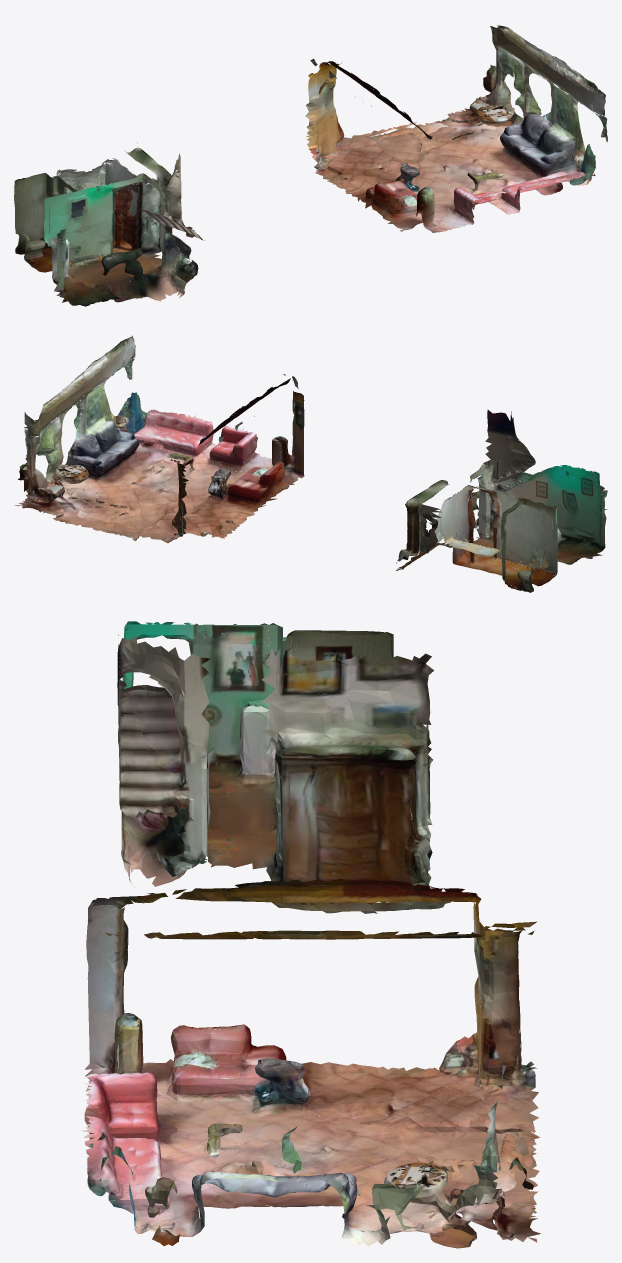
The model's file is esc_baja_muros_01.glb.
The picture shows the model from 3 angles, top to bottom: view 1: azimuth 30°, elevation 25°; view 2: azimuth 150°, elevation 25°; view 3: azimuth 270°, elevation 25°; orthographic projection. The views are drawn at different scales.
Parts seen in each view (by area): view 1: muros_Planta_principal_1_GLTF_11, muros_Planta_principal_1_GLTF_15, muros_Planta_principal_1_GLTF_14, muros_Planta_principal_1_GLTF_9, muros_Planta_principal_1_GLTF_4, muros_Planta_principal_1_GLTF_13, muros_Planta_principal_1_GLTF_10, muros_Planta_principal_1_GLTF_2, muros_Planta_principal_1_GLTF, muros_Planta_principal_1_GLTF_5, muros_Planta_principal_1_GLTF_3, muros_Planta_principal_1_GLTF_1 (+3 smaller); view 2: muros_Planta_principal_1_GLTF_11, muros_Planta_principal_1_GLTF_2, muros_Planta_principal_1_GLTF_9, muros_Planta_principal_1_GLTF_14, muros_Planta_principal_1_GLTF_10, muros_Planta_principal_1_GLTF_4, muros_Planta_principal_1_GLTF_15, muros_Planta_principal_1_GLTF_5, muros_Planta_principal_1_GLTF_8, muros_Planta_principal_1_GLTF_12, muros_Planta_principal_1_GLTF_13, muros_Planta_principal_1_GLTF_1 (+4 smaller); view 3: muros_Planta_principal_1_GLTF_11, muros_Planta_principal_1_GLTF_14, muros_Planta_principal_1_GLTF_4, muros_Planta_principal_1_GLTF_15, muros_Planta_principal_1_GLTF_9, muros_Planta_principal_1_GLTF_8, muros_Planta_principal_1_GLTF_12, muros_Planta_principal_1_GLTF_3, muros_Planta_principal_1_GLTF_13, muros_Planta_principal_1_GLTF_10, muros_Planta_principal_1_GLTF, muros_Planta_principal_1_GLTF_2 (+4 smaller).
Boxes of the visible parts, x1,y1,x2,y2 form: muros_Planta_principal_1_GLTF_11: (44,25,607,292); muros_Planta_principal_1_GLTF_15: (45,61,591,297); muros_Planta_principal_1_GLTF_14: (24,66,588,302); muros_Planta_principal_1_GLTF_9: (15,114,585,306); muros_Planta_principal_1_GLTF_4: (54,72,605,297); muros_Planta_principal_1_GLTF_13: (34,27,565,301); muros_Planta_principal_1_GLTF_10: (57,114,492,265); muros_Planta_principal_1_GLTF_2: (14,105,595,302); muros_Planta_principal_1_GLTF: (24,61,583,260); muros_Planta_principal_1_GLTF_5: (141,50,606,228); muros_Planta_principal_1_GLTF_3: (14,85,607,280); muros_Planta_principal_1_GLTF_1: (60,52,580,263); muros_Planta_principal_1_GLTF_11: (31,349,580,570); muros_Planta_principal_1_GLTF_2: (56,395,606,592); muros_Planta_principal_1_GLTF_9: (75,409,605,591); muros_Planta_principal_1_GLTF_14: (26,376,564,590); muros_Planta_principal_1_GLTF_10: (95,465,544,573); muros_Planta_principal_1_GLTF_4: (103,335,592,566); muros_Planta_principal_1_GLTF_15: (23,374,549,568); muros_Planta_principal_1_GLTF_5: (59,337,538,490); muros_Planta_principal_1_GLTF_8: (18,431,534,580); muros_Planta_principal_1_GLTF_12: (14,441,576,576); muros_Planta_principal_1_GLTF_13: (24,412,557,579); muros_Planta_principal_1_GLTF_1: (23,394,607,553); muros_Planta_principal_1_GLTF_11: (85,625,539,1233); muros_Planta_principal_1_GLTF_14: (86,635,539,1233); muros_Planta_principal_1_GLTF_4: (83,807,521,1184); muros_Planta_principal_1_GLTF_15: (85,656,527,1244); muros_Planta_principal_1_GLTF_9: (81,772,416,1208); muros_Planta_principal_1_GLTF_8: (119,637,533,1212); muros_Planta_principal_1_GLTF_12: (156,704,540,1242); muros_Planta_principal_1_GLTF_3: (84,635,522,1245); muros_Planta_principal_1_GLTF_13: (134,752,538,1245); muros_Planta_principal_1_GLTF_10: (215,769,532,1189); muros_Planta_principal_1_GLTF: (130,623,510,1248); muros_Planta_principal_1_GLTF_2: (101,627,461,1222).
Size of the model in its own units: 16.28 by 4.01 by 6.53.
16 materials, 16 textured.
